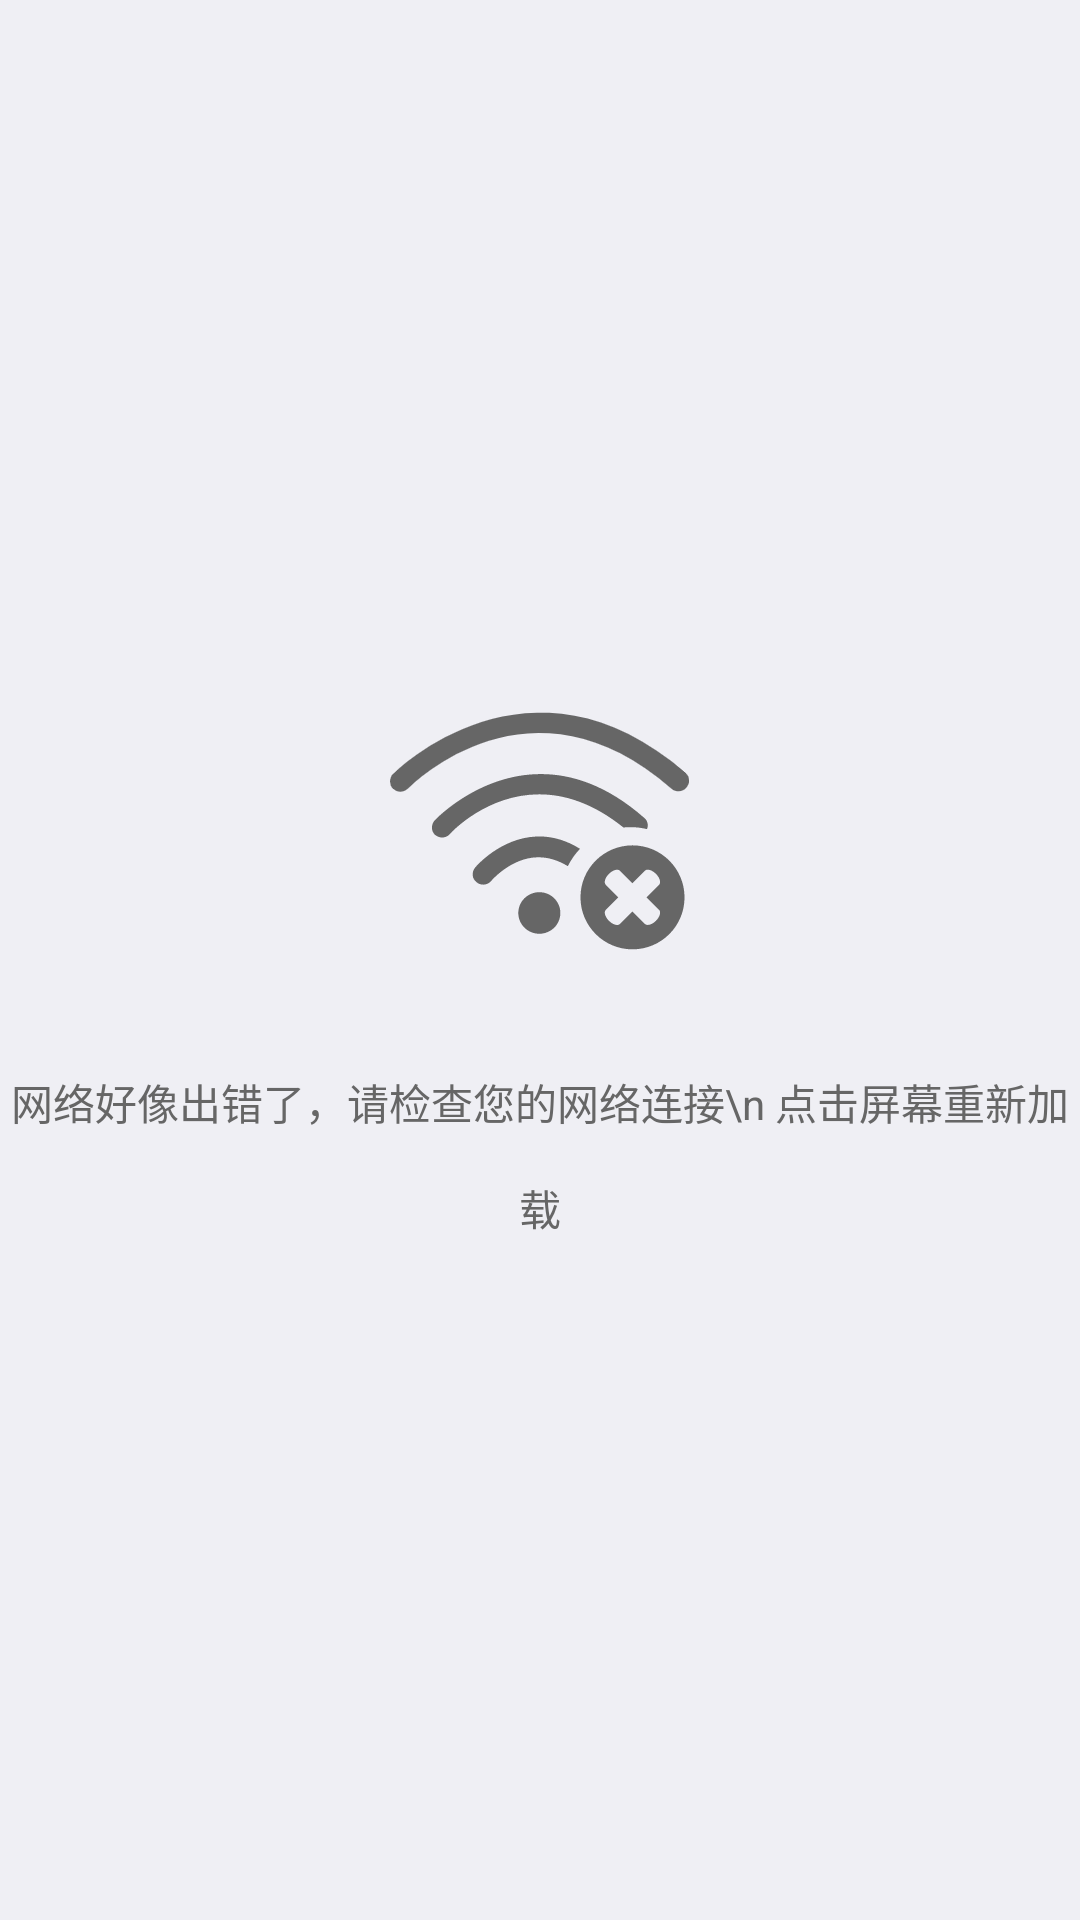

Icon click points for this 1080w x 1920h phone screenshot, format point (x, y):
network error: point (539, 831)
